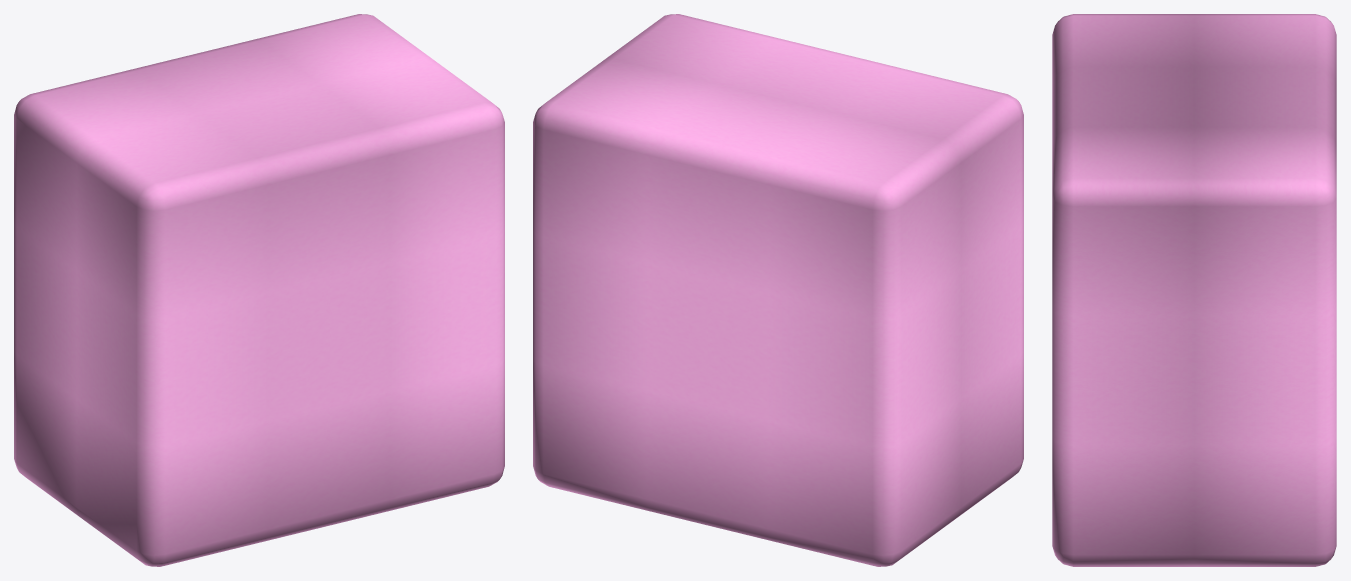
Rendered from __clay_block_05_38.obj.
The picture shows the model from 3 angles, left to right: view 1: azimuth 30°, elevation 25°; view 2: azimuth 150°, elevation 25°; view 3: azimuth 270°, elevation 25°; orthographic projection.
Visible parts, largest first — view 1: clay_block_38; view 2: clay_block_38; view 3: clay_block_38.
Part boxes in pixels (x1,y1,x2,y2): clay_block_38: (14,14,504,566); clay_block_38: (533,14,1023,566); clay_block_38: (1052,14,1336,566).
Size of the model in its own units: 3 by 3 by 2.
1 material, 1 textured.
